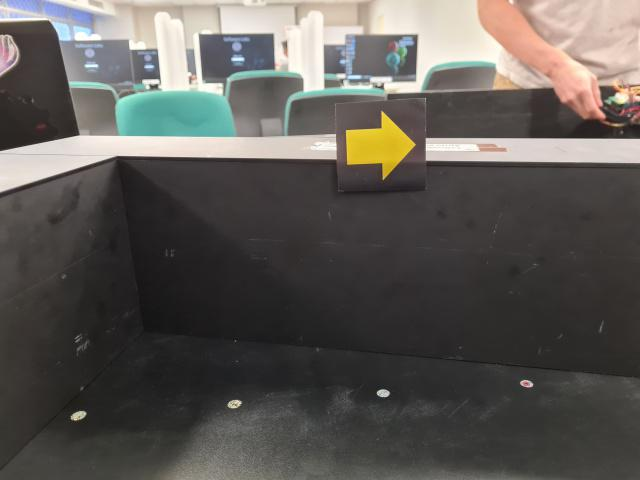right: (335, 97, 427, 193)
